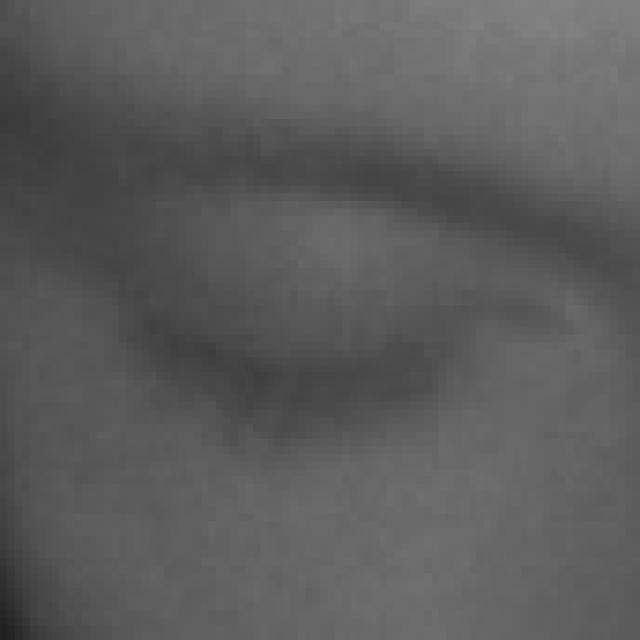Eyeclosed: (119, 200, 498, 512)
